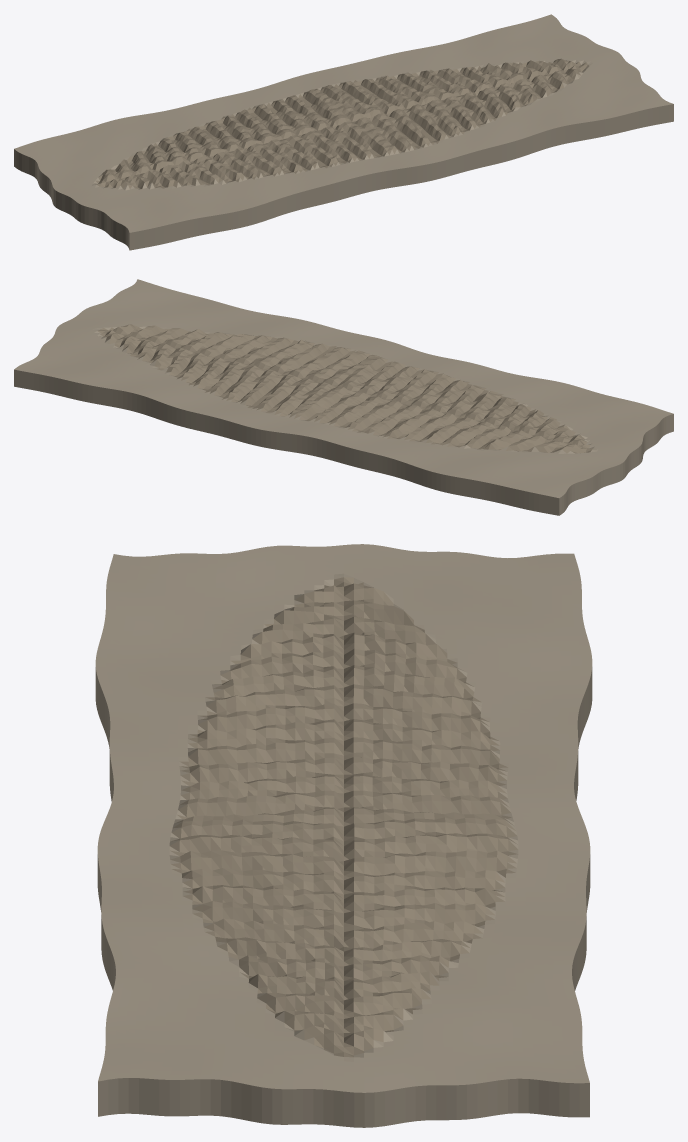
3 views of the same model, one above another, from view 1: azimuth 30°, elevation 25°; view 2: azimuth 150°, elevation 25°; view 3: azimuth 270°, elevation 25° (orthographic). The views are drawn at different scales.
Parts seen in each view (by area): view 1: original_shallow_fusiform_fossil_cast_with_opposed_hierarchi; view 2: original_shallow_fusiform_fossil_cast_with_opposed_hierarchi; view 3: original_shallow_fusiform_fossil_cast_with_opposed_hierarchi.
Part boxes in pixels (x1,y1,x2,y2): original_shallow_fusiform_fossil_cast_with_opposed_hierarchi: (14, 14, 673, 250); original_shallow_fusiform_fossil_cast_with_opposed_hierarchi: (14, 279, 673, 515); original_shallow_fusiform_fossil_cast_with_opposed_hierarchi: (95, 544, 592, 1127).
Bounding box in the file's own units: 0.3014 × 0.0119 × 0.1151.
